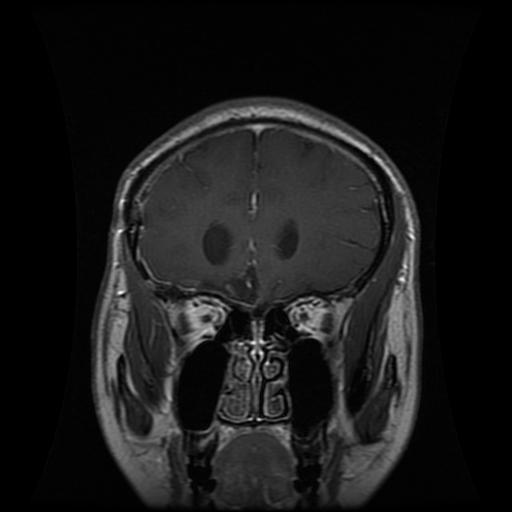Gliomia_tumour: (217, 261, 259, 303)
